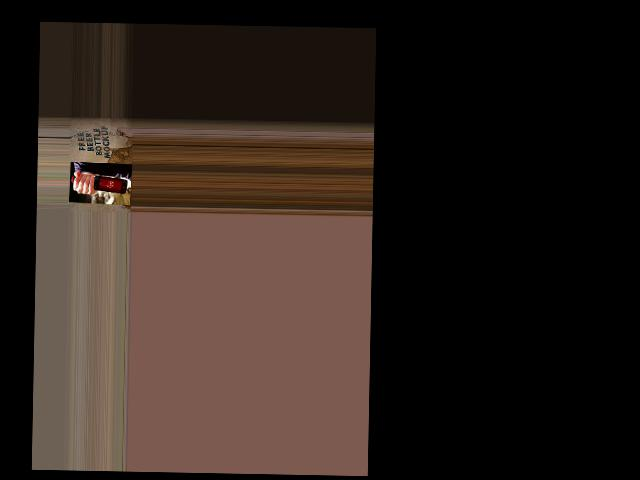beer: (71, 175, 127, 193)
